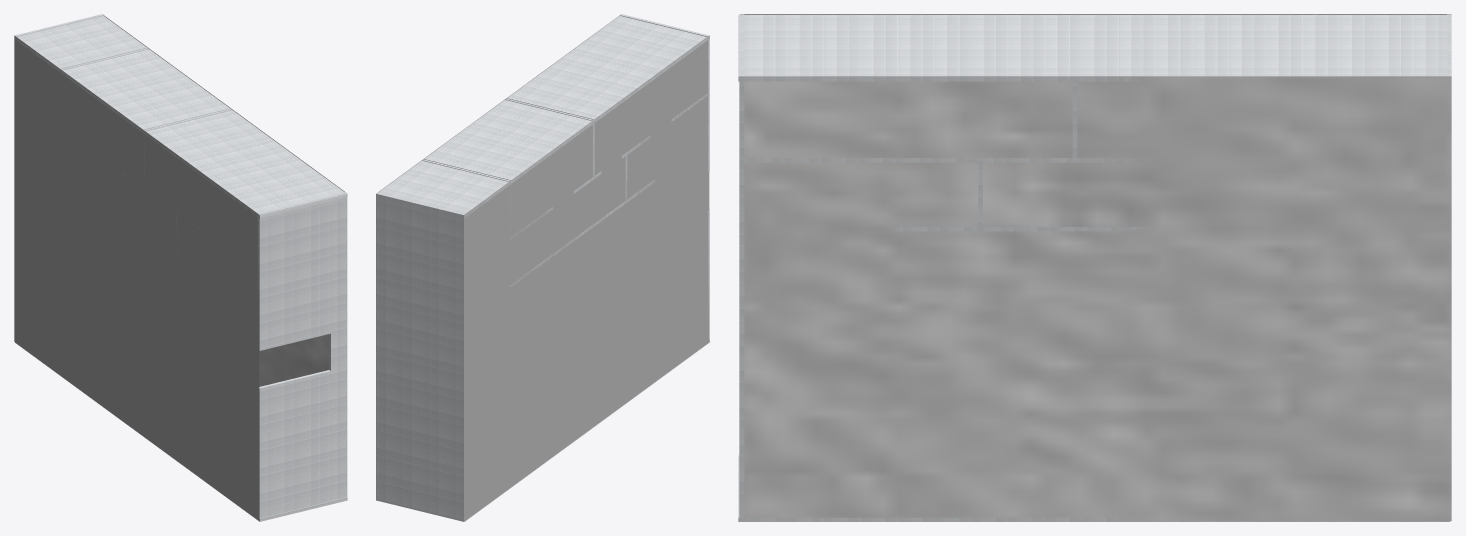
The model's file is mapStooooooop.fbx.
3 views of the same model, side by side, from view 1: azimuth 30°, elevation 25°; view 2: azimuth 150°, elevation 25°; view 3: azimuth 270°, elevation 25° (orthographic). The views are drawn at different scales.
Visible parts, largest first — view 1: Floor, Walls, Ceiling; view 2: Floor, Walls; view 3: Ceiling, Walls.
Part boxes in pixels (<box>): Floor: <box>14,35,259,520</box>; Walls: <box>15,14,347,521</box>; Ceiling: <box>103,15,345,386</box>; Floor: <box>464,37,709,521</box>; Walls: <box>376,14,709,521</box>; Ceiling: <box>744,76,1451,520</box>; Walls: <box>738,14,1451,521</box>.
Bounding box in the file's own units: 300 × 1002 × 1454.
